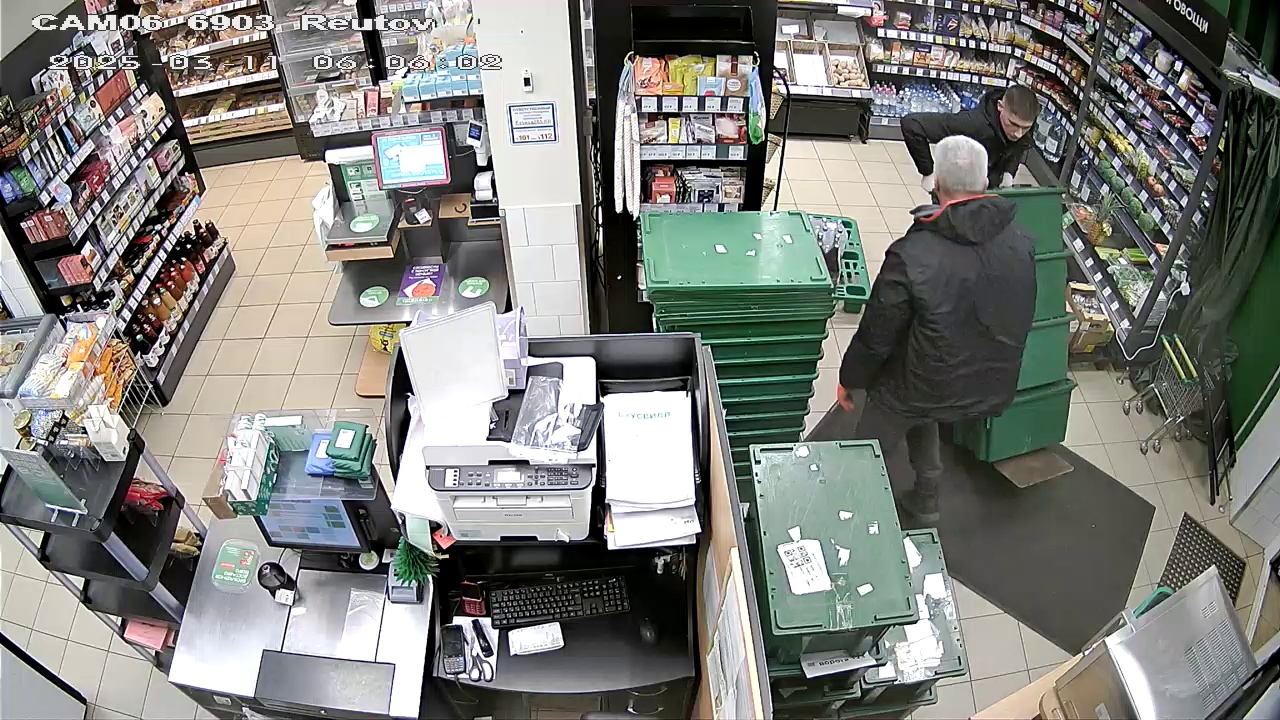Human: (831, 127, 1023, 523), (894, 61, 1041, 190)
